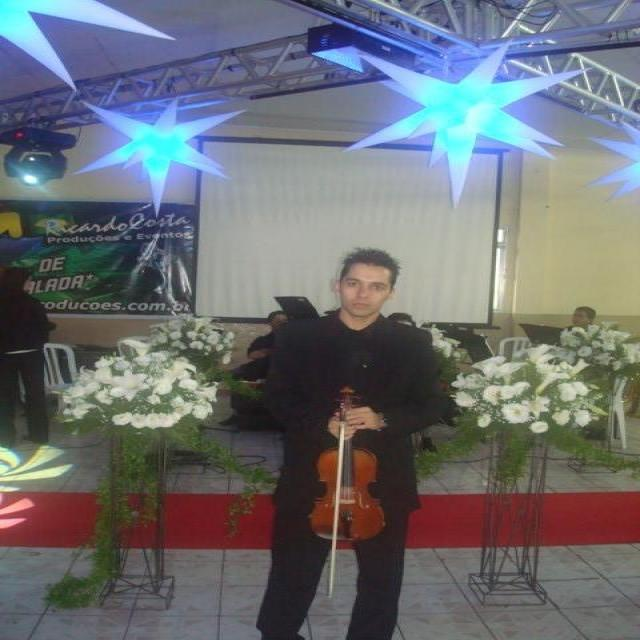violin: (307, 385, 392, 543)
